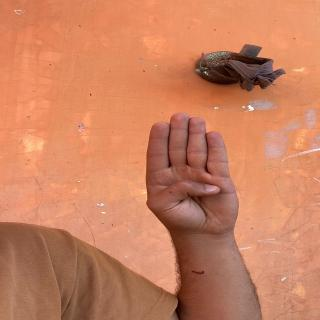KAAF: (142, 108, 256, 231)
